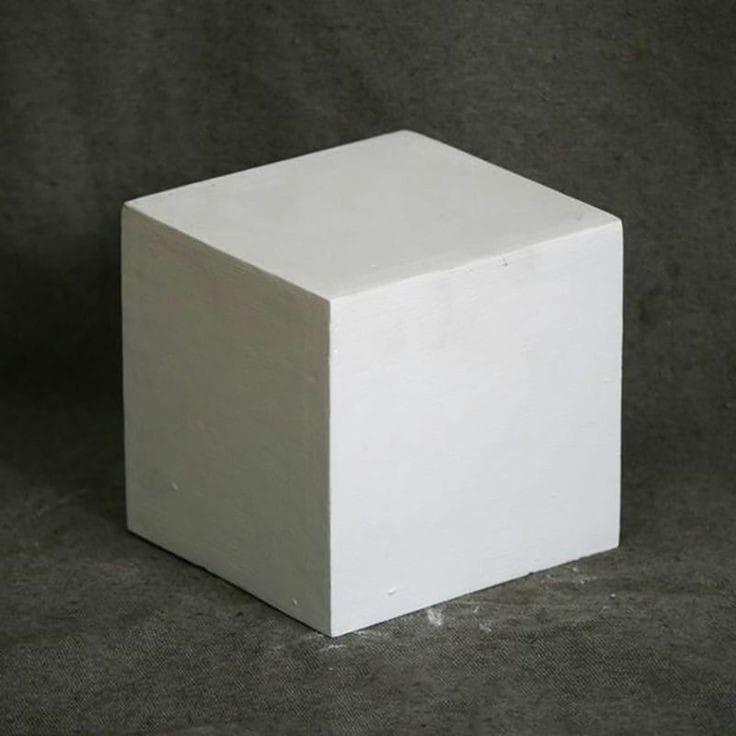cubos: (102, 112, 648, 643)
